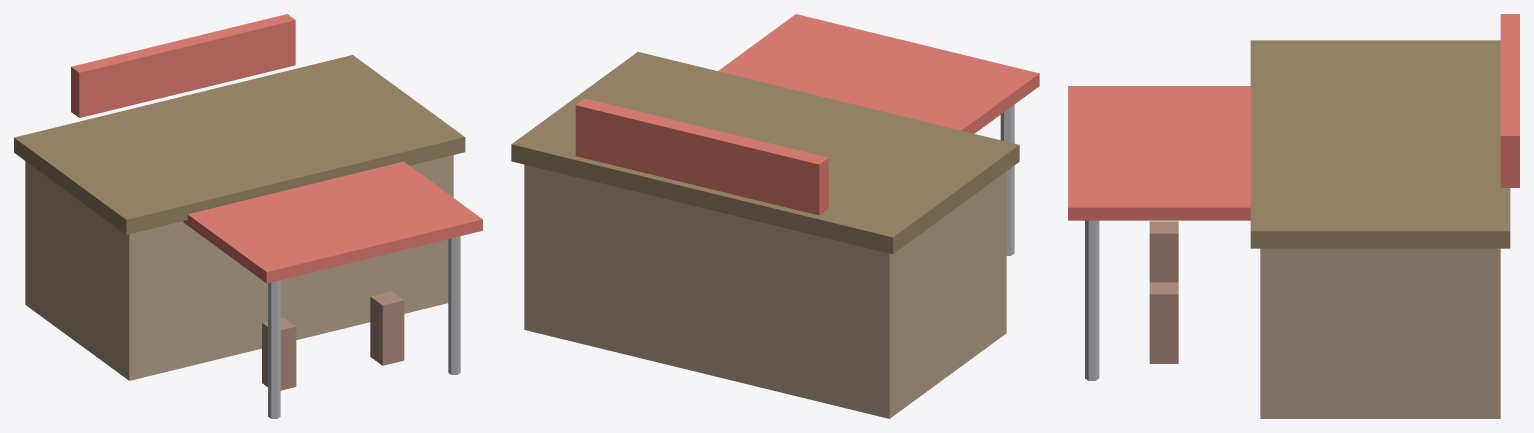
Rendered from gas_station.glb.
3 renders of one model, left to right at view 1: azimuth 30°, elevation 25°; view 2: azimuth 150°, elevation 25°; view 3: azimuth 270°, elevation 25°, orthographic. The views are drawn at different scales.
Parts seen in each view (by area): view 1: gas_station; view 2: gas_station; view 3: gas_station.
Part boxes in pixels (x1,y1,x2,y2): gas_station: (14, 14, 482, 418); gas_station: (511, 14, 1039, 418); gas_station: (1068, 14, 1519, 418).
Bounding box in the file's own units: 9.4 × 5.8 × 9.4.
